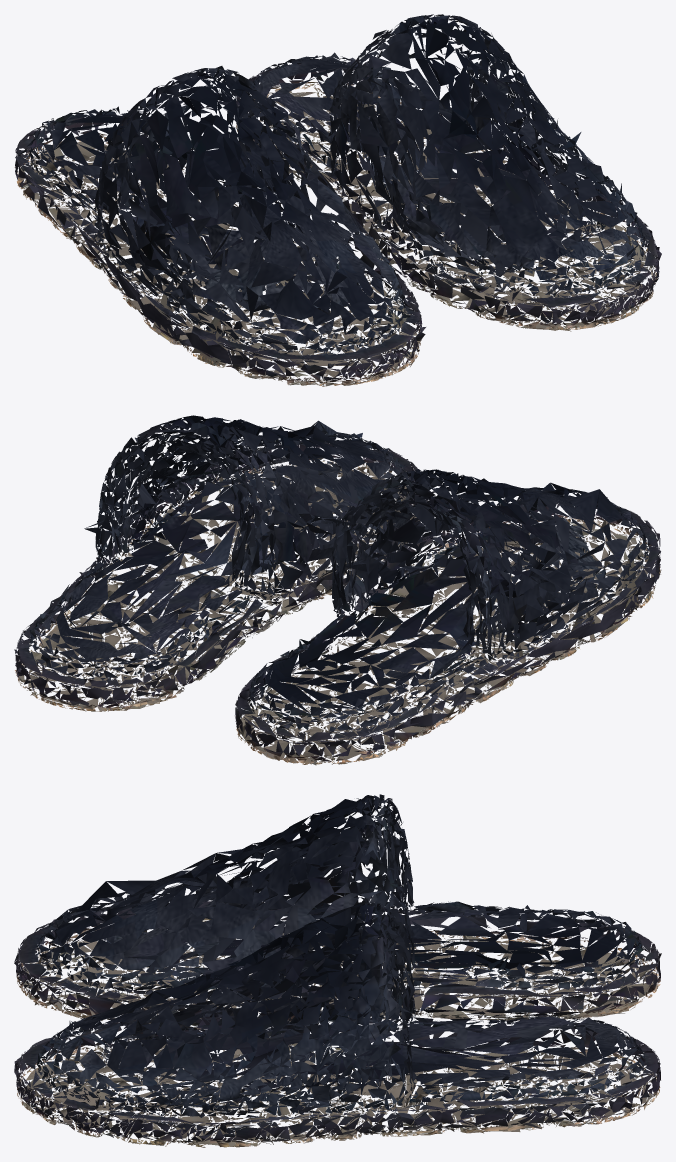
Rendered from mk2-bathroom-sliders.glb.
3 views of the same model, one above another, from view 1: azimuth 30°, elevation 25°; view 2: azimuth 150°, elevation 25°; view 3: azimuth 270°, elevation 25° (orthographic).
Parts seen in each view (by area): view 1: mesh_node; view 2: mesh_node; view 3: mesh_node.
Boxes of the visible parts, x1,y1,x2,y2 form: mesh_node: [14, 14, 661, 386]; mesh_node: [14, 415, 661, 765]; mesh_node: [14, 794, 661, 1147].
Bounding box in the file's own units: 1.58 × 0.6304 × 1.91.
Materials: 1 (1 with a texture image).
